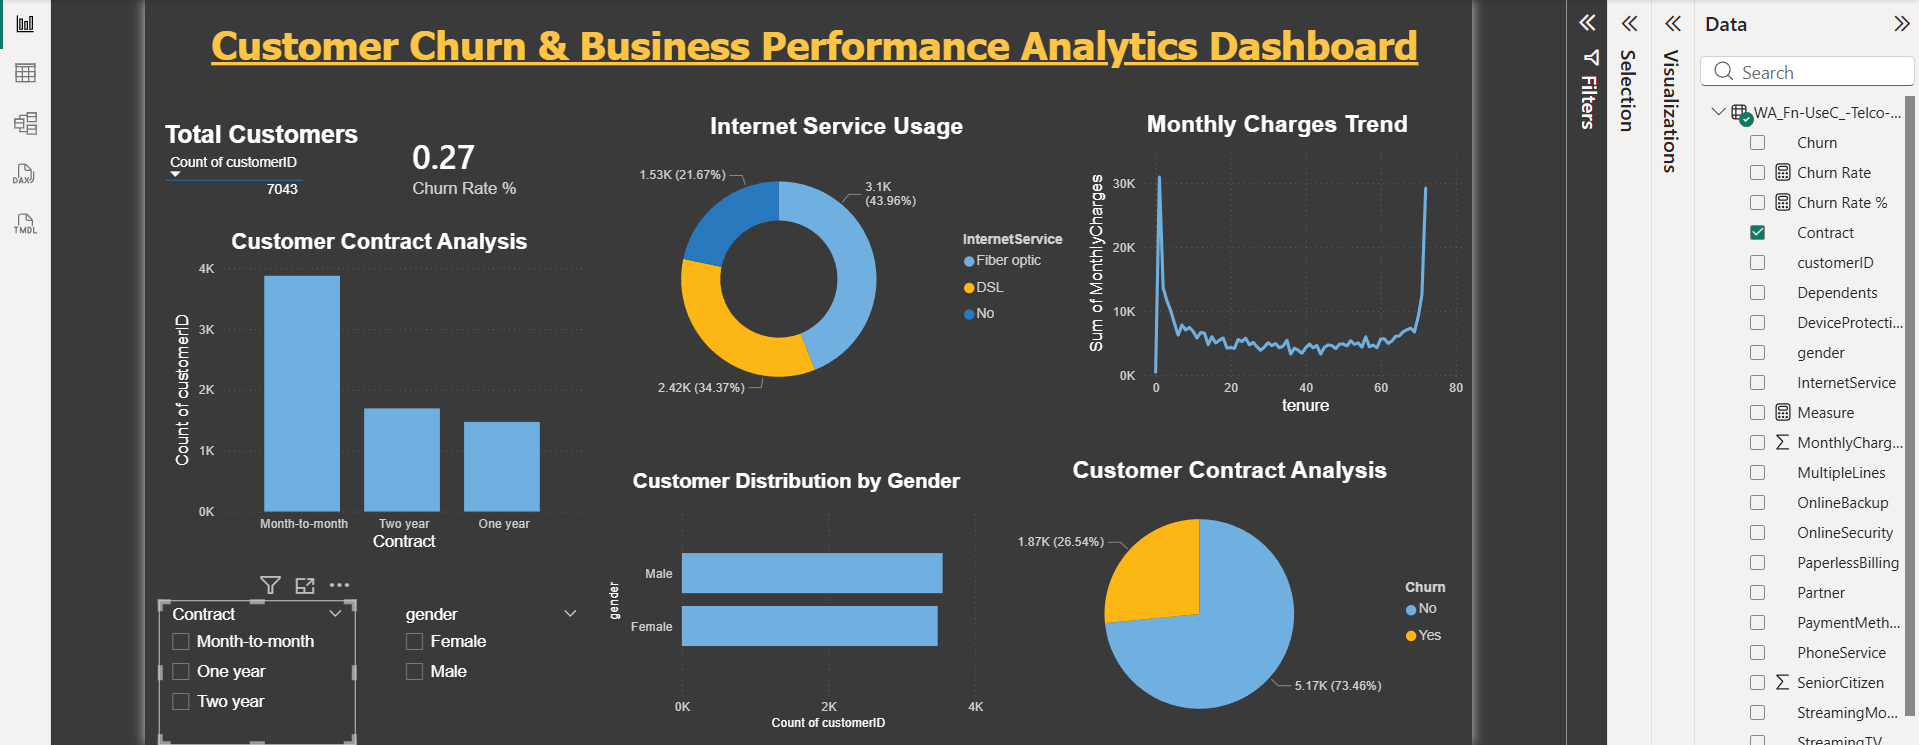

This screenshot's page, from the dashboard's own definition file:
{"tool":"powerbi","page":{"name":"Customer_Churn","canvas":[1280,720],"ordinal":0},"visuals":[{"type":"tableEx","title":"Total Customers","fields":{"Values":["WA_Fn-UseC_-Telco-Customer-Churn.customerID"]},"box":[13.5,117.4,206.7,99],"z":0},{"type":"pieChart","title":"Customer Contract Analysis","fields":{"Category":["WA_Fn-UseC_-Telco-Customer-Churn.Churn"],"Y":["CountNonNull(WA_Fn-UseC_-Telco-Customer-Churn.customerID)"]},"box":[814.4,441.4,465.9,278.8],"z":1000},{"type":"clusteredBarChart","title":"Customer Distribution by Gender","fields":{"Category":["WA_Fn-UseC_-Telco-Customer-Churn.gender"],"Y":["CountNonNull(WA_Fn-UseC_-Telco-Customer-Churn.customerID)"]},"box":[442.7,453.7,371.7,256.8],"z":2000},{"type":"columnChart","title":"Customer Contract Analysis","fields":{"Category":["WA_Fn-UseC_-Telco-Customer-Churn.Contract"],"Y":["CountNonNull(WA_Fn-UseC_-Telco-Customer-Churn.customerID)"]},"box":[24.5,222.6,404.8,315.5],"z":3000},{"type":"donutChart","title":"Internet Service Usage","fields":{"Category":["WA_Fn-UseC_-Telco-Customer-Churn.InternetService"],"Y":["CountNonNull(WA_Fn-UseC_-Telco-Customer-Churn.customerID)"]},"box":[429.2,110.1,476.9,295.9],"z":4000},{"type":"lineChart","title":"Monthly Charges Trend","fields":{"Category":["WA_Fn-UseC_-Telco-Customer-Churn.tenure"],"Y":["Sum(WA_Fn-UseC_-Telco-Customer-Churn.MonthlyCharges)"]},"box":[906.1,107.6,374.2,298.4],"z":5000},{"type":"slicer","fields":{"Values":["WA_Fn-UseC_-Telco-Customer-Churn.gender"]},"box":[238.5,580.8,190.8,139.4],"z":6000},{"type":"slicer","fields":{"Values":["WA_Fn-UseC_-Telco-Customer-Churn.Contract"]},"box":[13.5,580.8,189.5,139.4],"z":7000},{"type":"cardVisual","fields":{"Data":["WA_Fn-UseC_-Telco-Customer-Churn.Churn Rate %"]},"box":[227.4,107.6,160.2,105.2],"z":9000},{"type":"textbox","box":[13.6,0,1266.4,107.4],"z":9001}]}

Visuals, with their boxes on the page's 1280x720 design canvas (x1, y1, x2, y2). These are canvas units, not pixel positions in the 1919x745 screenshot, which may show the page scaled, cropped or inside an application window:
"Total Customers" tableEx: locate(14, 117, 220, 216)
"Customer Contract Analysis" pieChart: locate(814, 441, 1280, 720)
"Customer Distribution by Gender" clusteredBarChart: locate(443, 454, 814, 710)
"Customer Contract Analysis" columnChart: locate(24, 223, 429, 538)
"Internet Service Usage" donutChart: locate(429, 110, 906, 406)
"Monthly Charges Trend" lineChart: locate(906, 108, 1280, 406)
slicer - WA_Fn-UseC_-Telco-Customer-Churn.gender: locate(238, 581, 429, 720)
slicer - WA_Fn-UseC_-Telco-Customer-Churn.Contract: locate(14, 581, 203, 720)
cardVisual - WA_Fn-UseC_-Telco-Customer-Churn.Churn Rate %: locate(227, 108, 388, 213)
textbox: locate(14, 0, 1280, 107)
